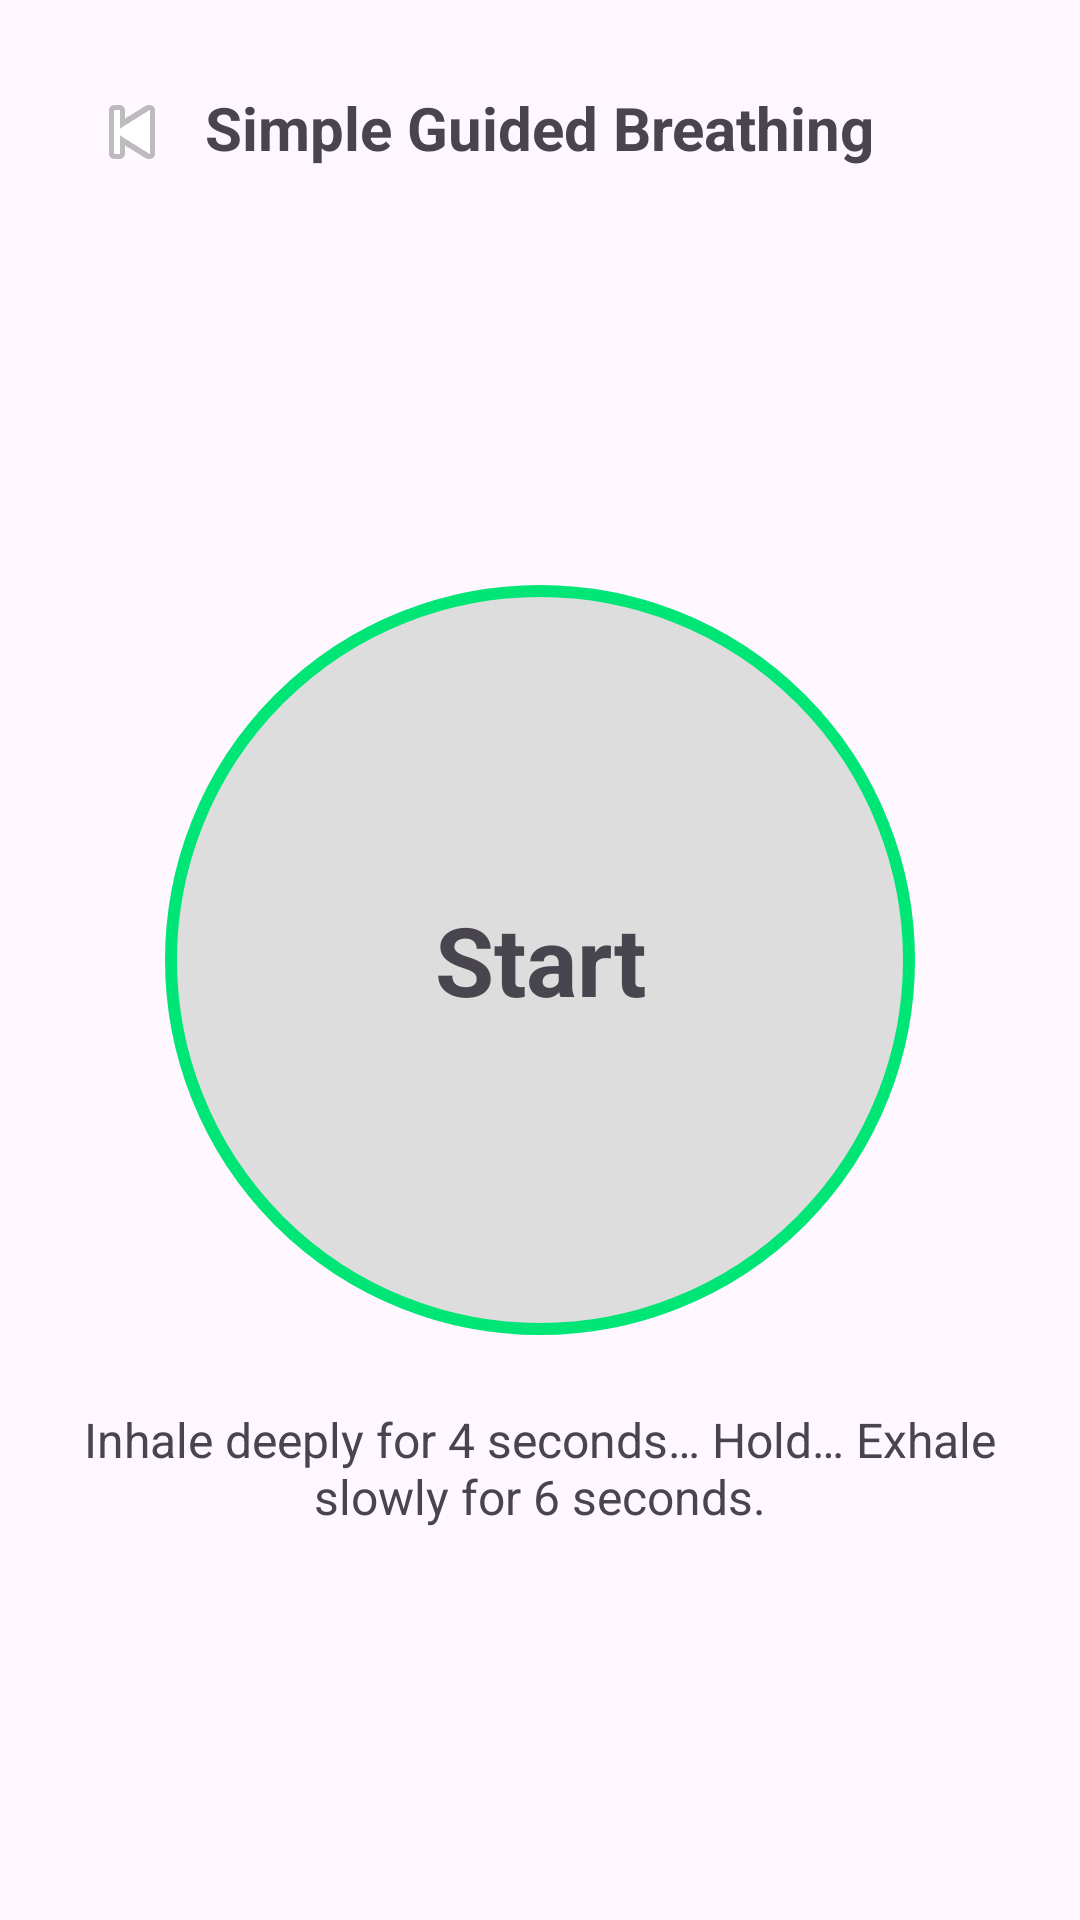

Point at icon controls on the screen. Image size 1080 × 1920, points as [x,y].
previous: [132,132]
